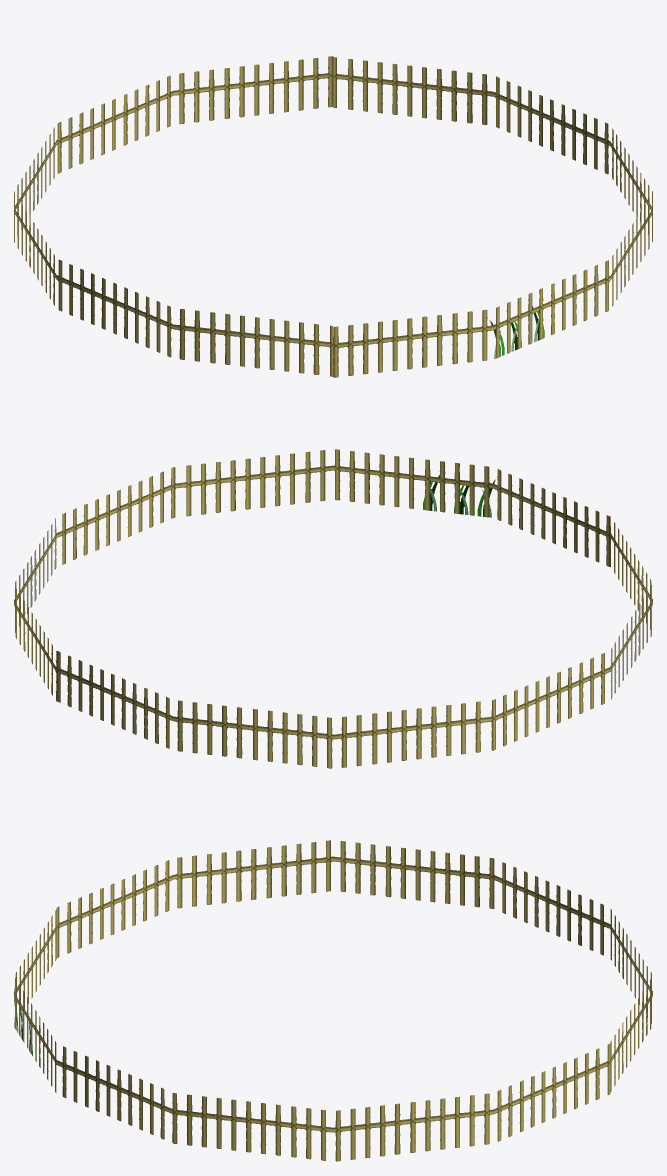
Rendered from saku2.FBX.
3 views of the same model, one above another, from view 1: azimuth 30°, elevation 25°; view 2: azimuth 150°, elevation 25°; view 3: azimuth 270°, elevation 25° (orthographic).
Visible parts, largest first — view 1: saku; view 2: saku; view 3: saku.
Boxes of the visible parts, <box> form: saku: <box>14,56,652,377</box>; saku: <box>14,449,652,768</box>; saku: <box>14,840,652,1161</box>.
Size of the model in its own units: 244 by 39.52 by 244.
